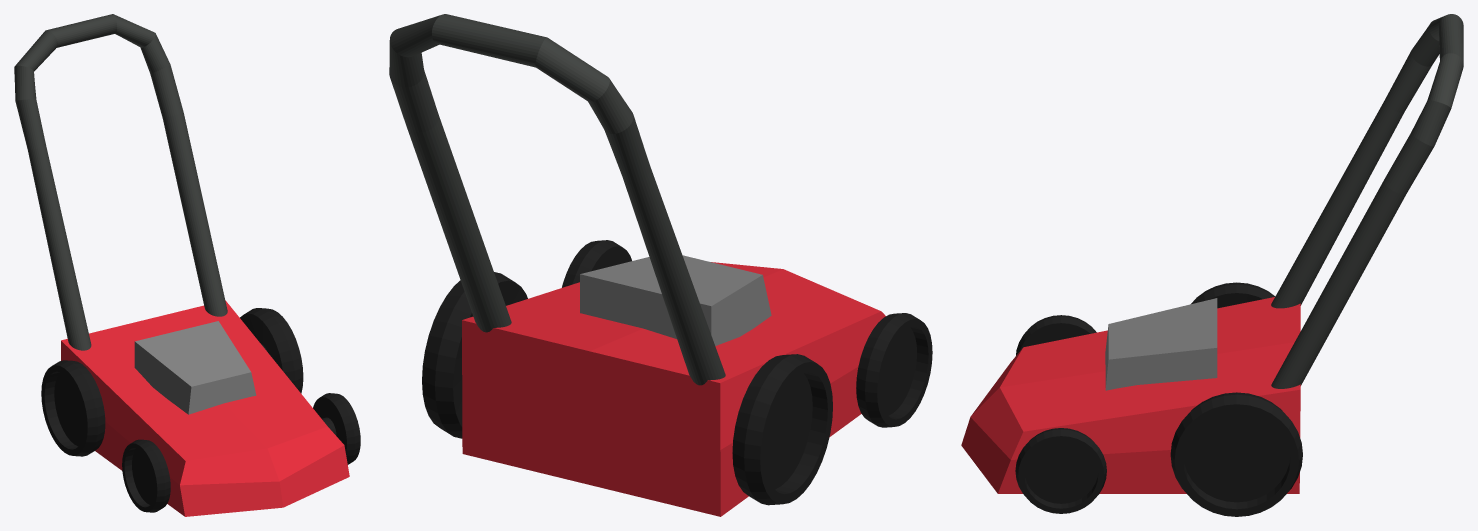
The model's file is Lawn Mower04.fbx.
3 renders of one model, left to right at view 1: azimuth 30°, elevation 25°; view 2: azimuth 150°, elevation 25°; view 3: azimuth 270°, elevation 25°, orthographic. The views are drawn at different scales.
Parts seen in each view (by area): view 1: Cube, Cylinder.002, Cube.001, Cylinder.001, Cylinder; view 2: Cube, Cylinder.002, Cylinder.001, Cube.001, Cylinder; view 3: Cube, Cylinder.002, Cylinder.001, Cube.001, Cylinder.
Boxes of the visible parts, x1,y1,x2,y2 form: Cube: [61, 300, 349, 516]; Cylinder.002: [14, 14, 227, 350]; Cube.001: [134, 321, 256, 414]; Cylinder.001: [41, 308, 303, 456]; Cylinder: [122, 393, 360, 512]; Cube: [462, 262, 885, 516]; Cylinder.002: [389, 14, 725, 385]; Cylinder.001: [422, 272, 832, 505]; Cube.001: [580, 255, 771, 345]; Cylinder: [562, 240, 932, 427]; Cube: [961, 297, 1300, 493]; Cylinder.002: [1271, 14, 1463, 388]; Cylinder.001: [1170, 282, 1302, 516]; Cube.001: [1105, 298, 1217, 390]; Cylinder: [1015, 315, 1106, 513].
Bounding box in the file's own units: 509 × 791 × 852.
